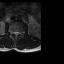CCS_normal: (15, 30, 17, 38)
LFS_stenosis: (19, 30, 21, 36)
LLS_normal: (17, 30, 19, 36)
RFS_normal: (11, 29, 13, 35)
RLS_normal: (13, 29, 15, 36)
